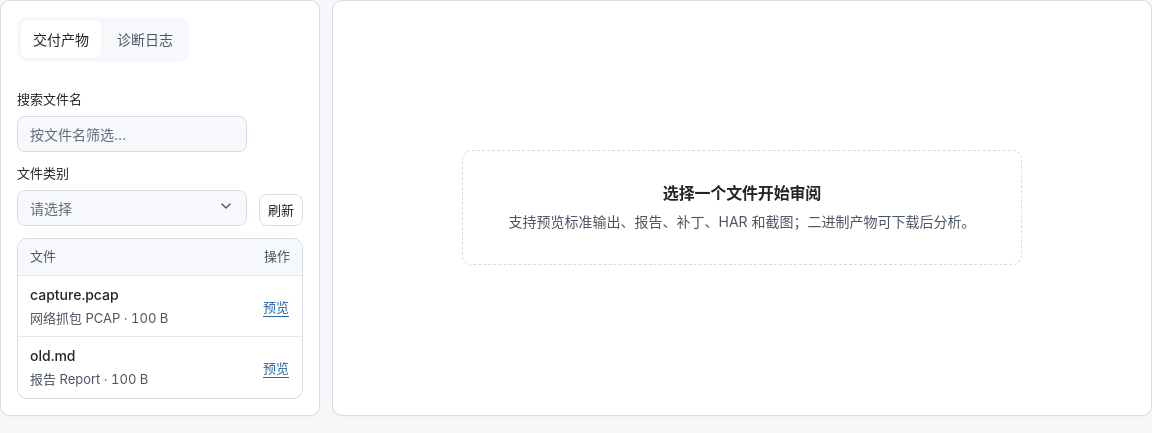
ArtifactsPage › keeps newest-first rows, switches view, and exposes historical kinds only when present
This screenshot has width=1152, height=433.
Expected: the elements with class "artifact-file-name" read "capture.pcap", "old.md", in this order, [30,286,119,303]; [30,347,76,364]
Press the mouse on the tab "诊断日志": (145,40) [105,21,185,58]
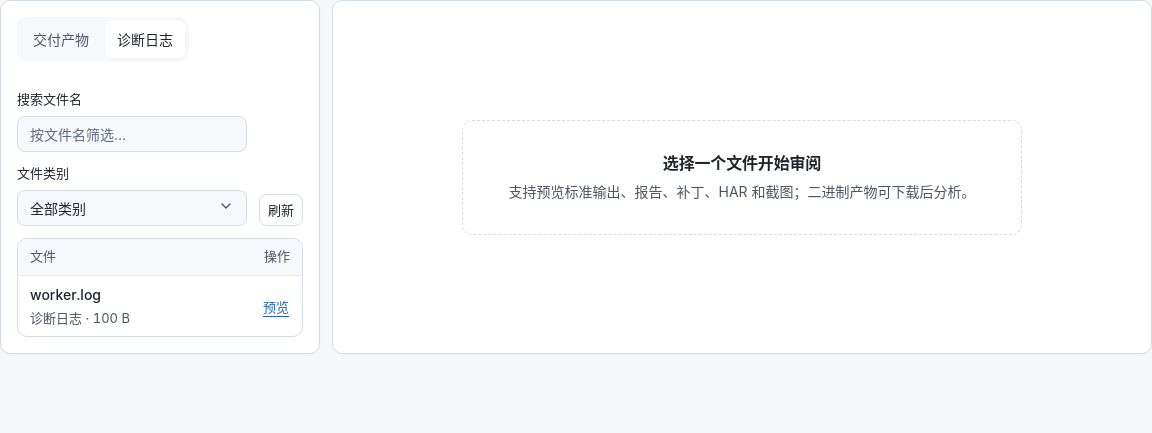
Result: the text "worker.log" is shown at [30,286,101,303]
Result: the text "capture.pcap" is gone
